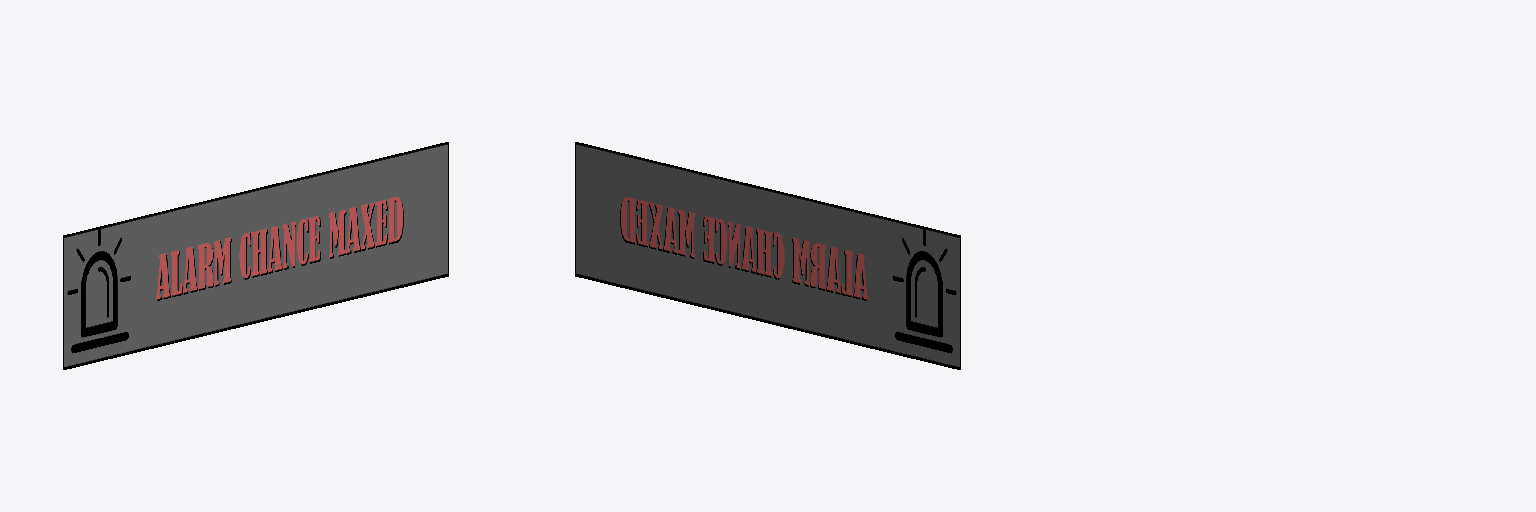
The picture shows the model from 3 angles: view 1: azimuth 30°, elevation 25°; view 2: azimuth 150°, elevation 25°; view 3: azimuth 270°, elevation 25°; orthographic projection.
Parts seen in each view (by area): view 1: Plane.003; view 2: Plane.003; view 3: none.
Part boxes in pixels (bbox=[...]): Plane.003: bbox=[63, 142, 448, 369]; Plane.003: bbox=[575, 142, 960, 369].
Bounding box in the file's own units: 0.9 × 0.3 × 0.
1 materials, 1 textured.